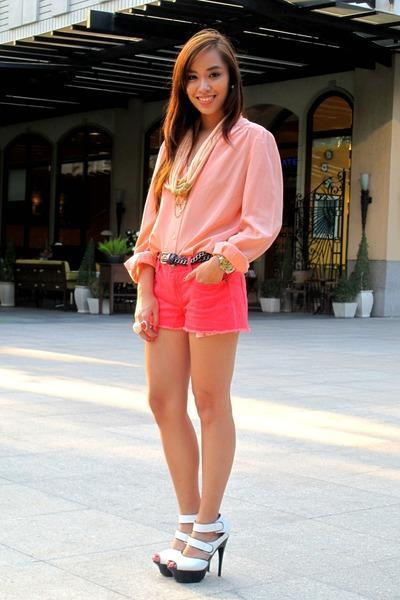shirt: (124, 115, 282, 299)
shoe: (166, 510, 234, 582)
shorts: (157, 264, 247, 332)
